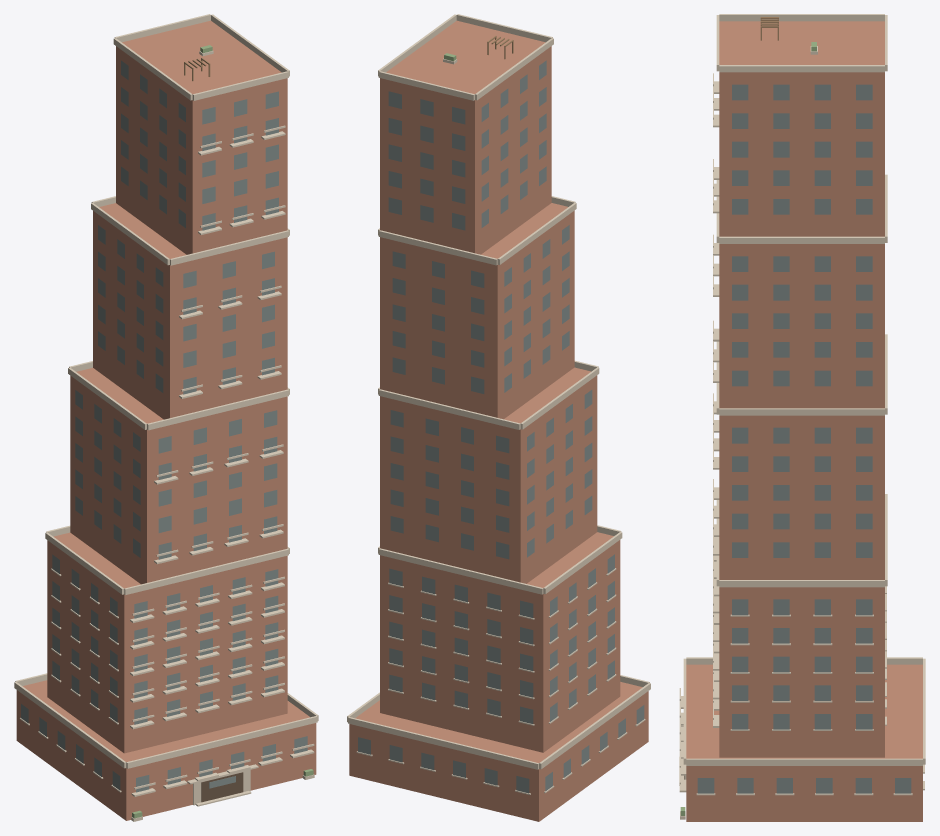
File: residential_3x3_tower_steps.glb
The picture shows the model from 3 angles, left to right: view 1: azimuth 30°, elevation 25°; view 2: azimuth 150°, elevation 25°; view 3: azimuth 270°, elevation 25°; orthographic projection. The views are drawn at different scales.
Visible parts, largest first — view 1: residential_3x3_tower_steps_0; view 2: residential_3x3_tower_steps_0; view 3: residential_3x3_tower_steps_0.
Part boxes in pixels (x1,y1,x2,y2): residential_3x3_tower_steps_0: (14,14,318,821); residential_3x3_tower_steps_0: (347,14,650,821); residential_3x3_tower_steps_0: (679,14,925,821).
Size of the model in its own units: 23 by 79.5 by 23.4.
